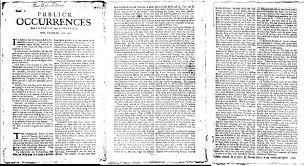Printing industry: (1, 6, 304, 166)
